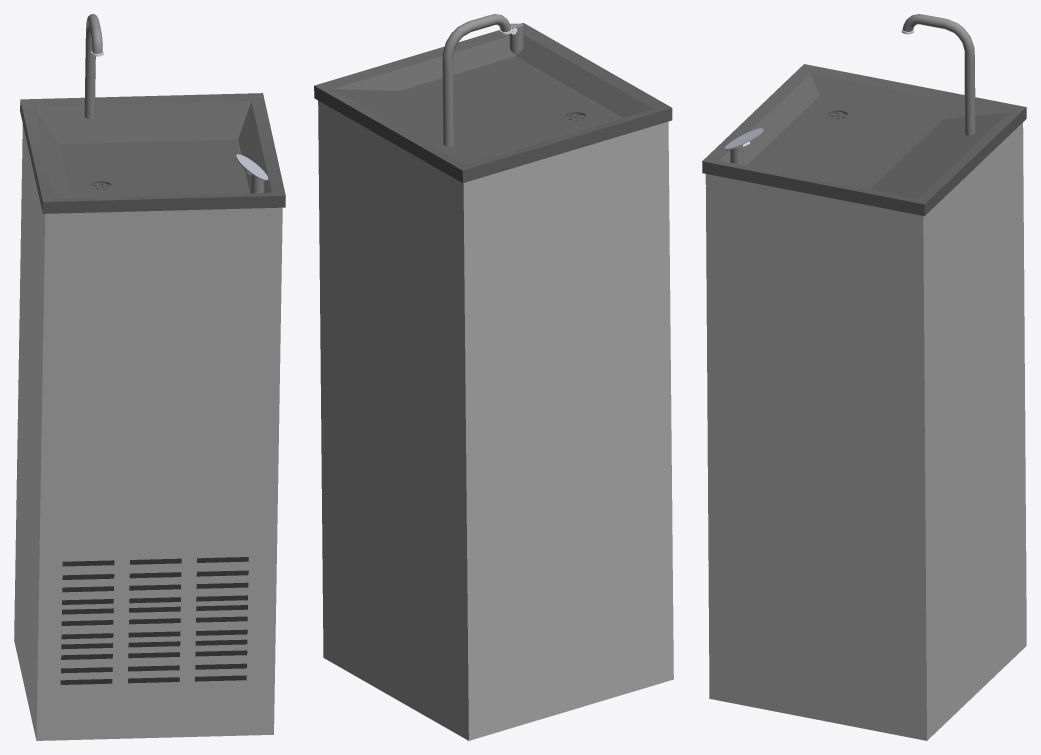
The model's file is lowpoly_drinking_fountain.glb.
3 renders of one model, left to right at view 1: azimuth 30°, elevation 25°; view 2: azimuth 150°, elevation 25°; view 3: azimuth 270°, elevation 25°, orthographic. The views are drawn at different scales.
Parts seen in each view (by area): view 1: Park_DrinkingFountain; view 2: Park_DrinkingFountain; view 3: Park_DrinkingFountain.
Boxes of the visible parts, x1,y1,x2,y2 form: Park_DrinkingFountain: (14, 14, 285, 740); Park_DrinkingFountain: (314, 14, 673, 740); Park_DrinkingFountain: (702, 14, 1026, 740).
Bounding box in the file's own units: 2.74 × 5.97 × 2.71.
1 material, 1 textured.
